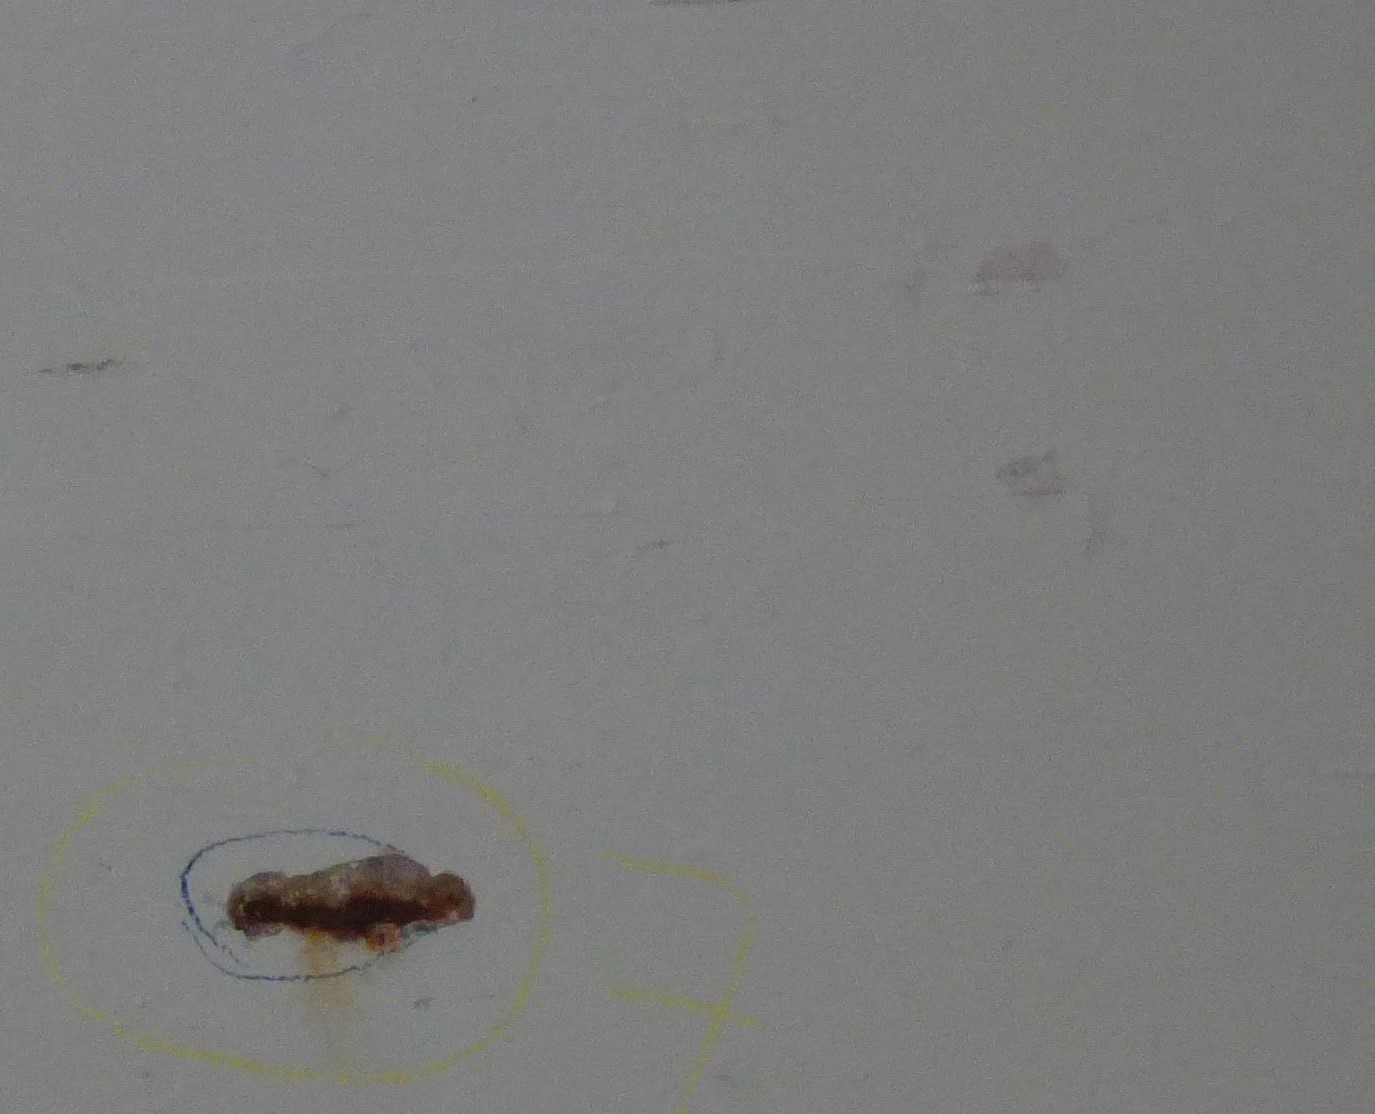Exposed reinforcement: (241, 897, 427, 926)
Spalling: (224, 853, 476, 951)
